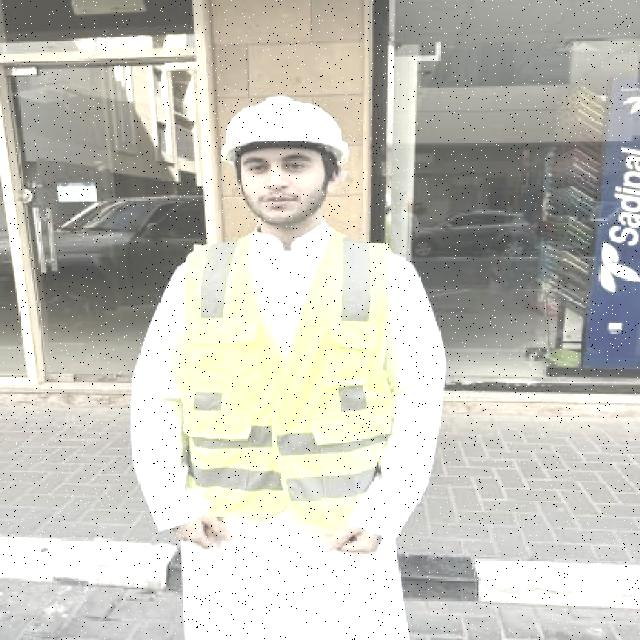Helmet: (221, 96, 356, 162)
Mask: (174, 238, 406, 526)
